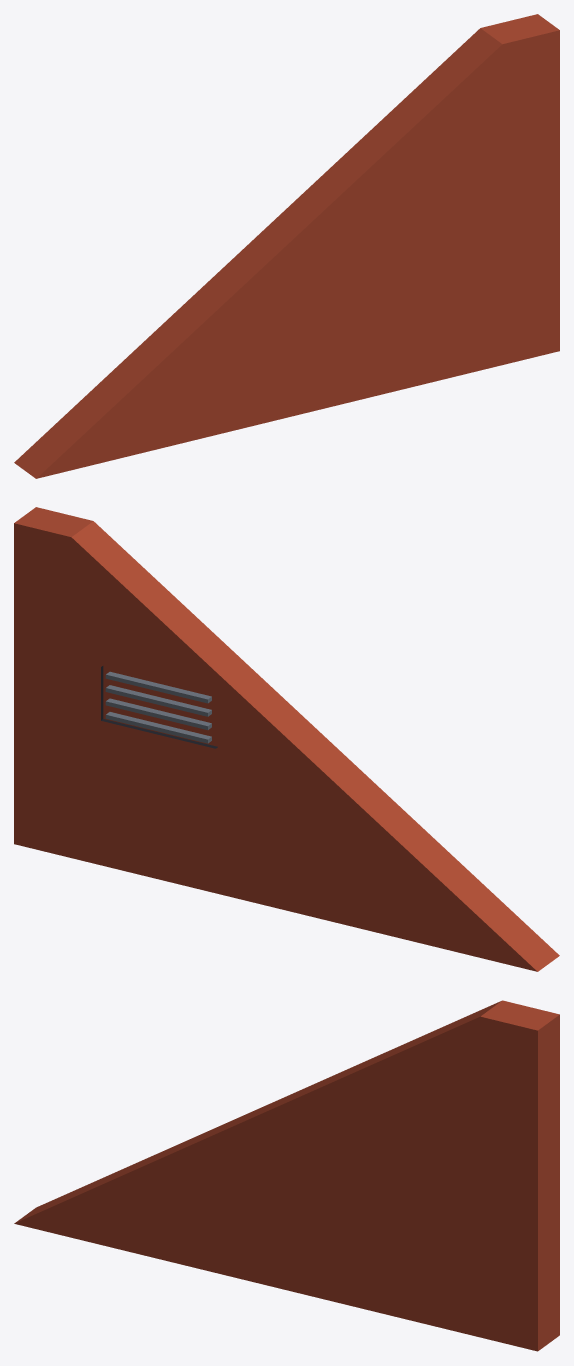
Rendered from hall_sawtooth_gable.glb.
3 renders of one model, top to bottom at view 1: azimuth 30°, elevation 25°; view 2: azimuth 150°, elevation 25°; view 3: azimuth 330°, elevation 25°, orthographic.
Parts seen in each view (by area): view 1: gable; view 2: gable; view 3: gable.
Part boxes in pixels (x1=…): gable: x1=14, y1=14, x2=559, y2=478; gable: x1=14, y1=507, x2=559, y2=971; gable: x1=14, y1=1000, x2=559, y2=1351.
Size of the model in its own units: 4.1 by 2.4 by 0.355.
